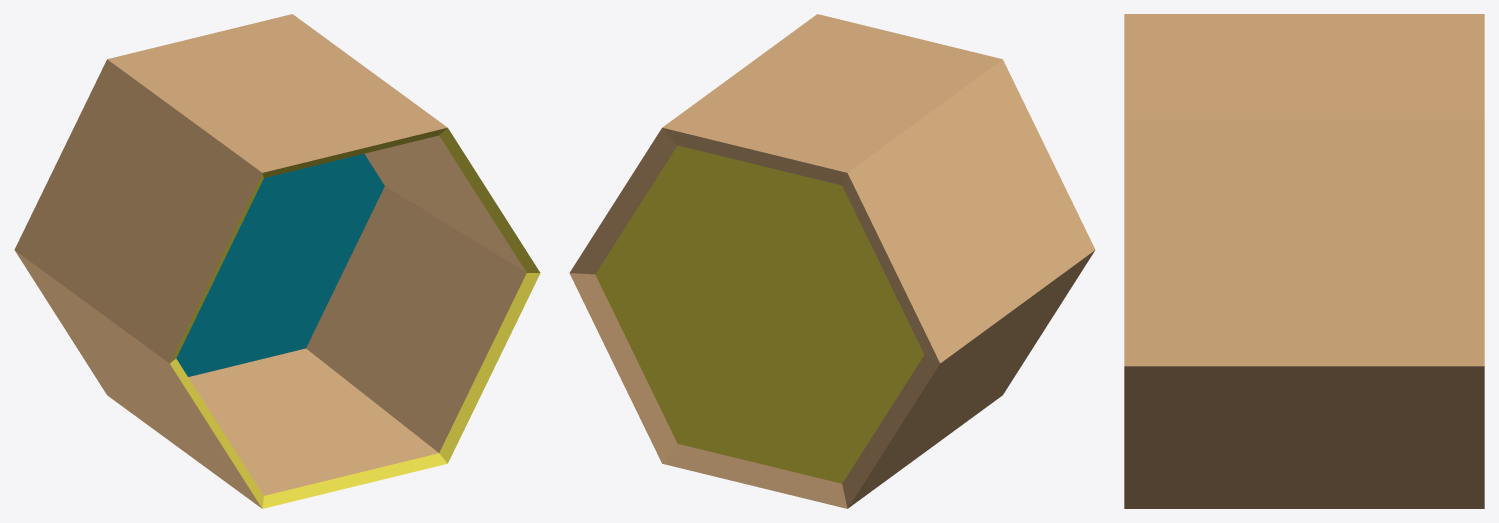
File: beehiveblue-transformed.glb
3 views of the same model, side by side, from view 1: azimuth 30°, elevation 25°; view 2: azimuth 150°, elevation 25°; view 3: azimuth 270°, elevation 25° (orthographic). The views are drawn at different scales.
Parts seen in each view (by area): view 1: pCylinder2; view 2: pCylinder2; view 3: pCylinder2.
Part boxes in pixels (x1,y1,x2,y2): pCylinder2: (14, 14, 540, 508); pCylinder2: (569, 14, 1095, 508); pCylinder2: (1124, 14, 1484, 508).
Size of the model in its own units: 0.02 by 0.0173 by 0.0145.
